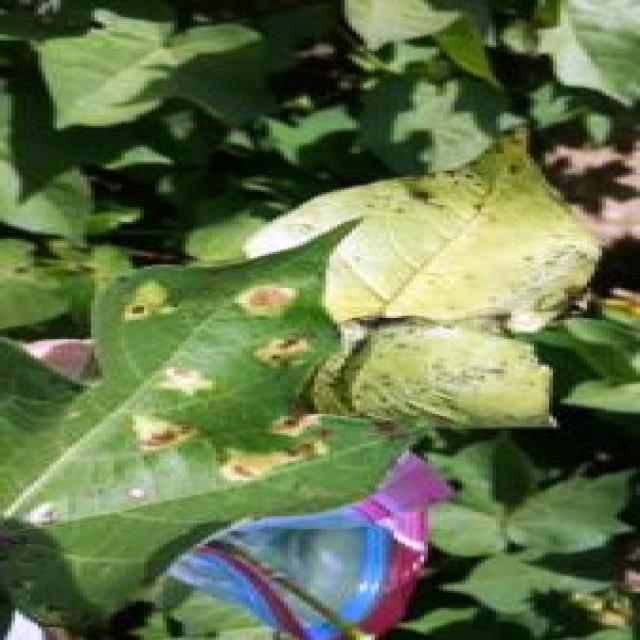Bacterial Blight: (103, 276, 348, 498)
